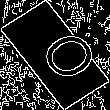O_SW: (18, 23, 92, 87)
